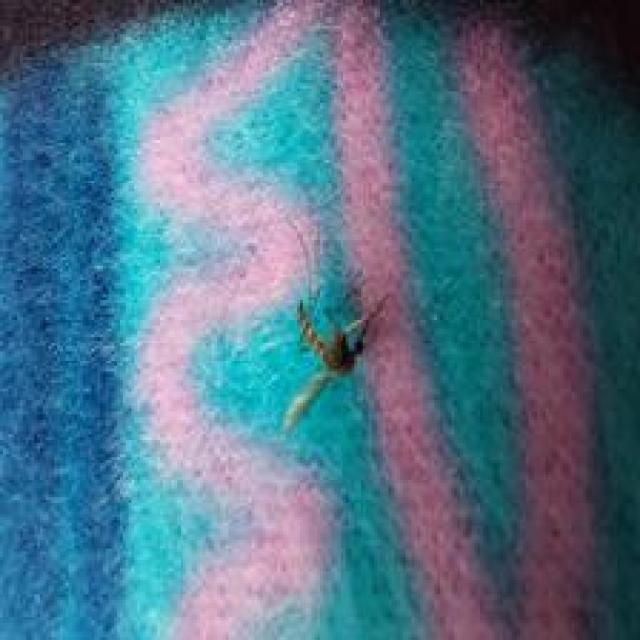Culex: (280, 289, 391, 434)
